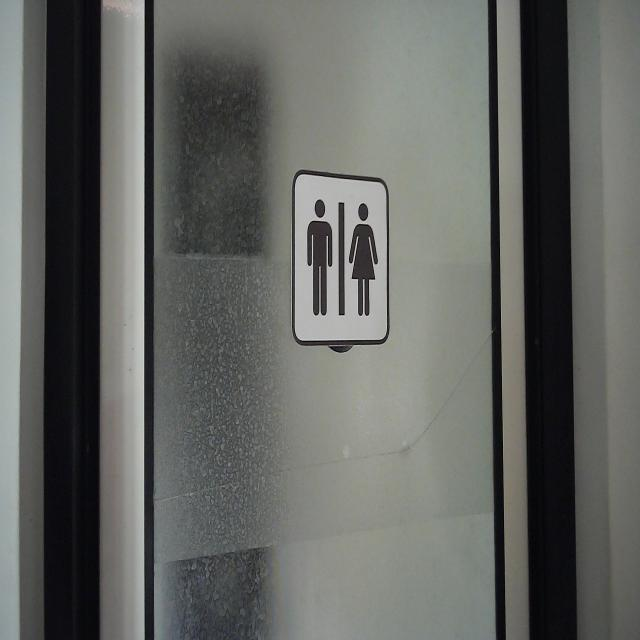restroom: (289, 165, 392, 350)
